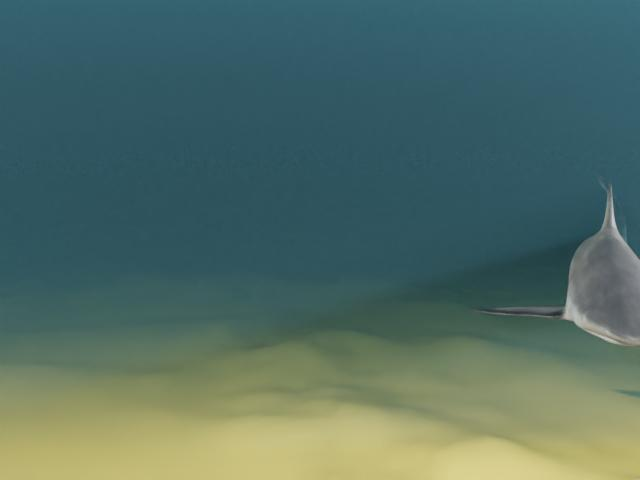Carribean Shark.001: (471, 171, 640, 345)
